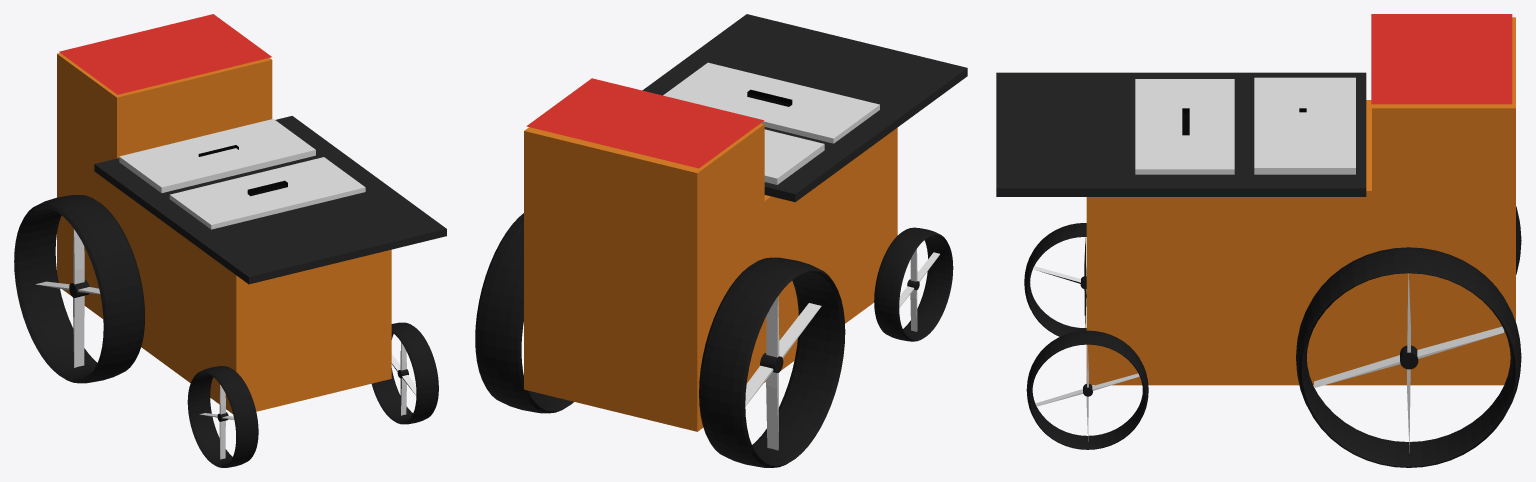
3 views of the same model, side by side, from view 1: azimuth 30°, elevation 25°; view 2: azimuth 150°, elevation 25°; view 3: azimuth 270°, elevation 25° (orthographic). The views are drawn at different scales.
Visible parts, largest first — view 1: Куб.005, Куб.001, Torus.008, Плоскость, Torus.007, Torus.006; view 2: Куб.005, Куб.001, Torus.008, Плоскость, Torus.001, Torus.007; view 3: Куб.005, Куб.001, Torus.001, Плоскость, Torus.006, Torus.007.
Part boxes in pixels (bbox=[...]): Куб.005: bbox=[57, 53, 391, 413]; Куб.001: bbox=[94, 116, 446, 284]; Torus.008: bbox=[14, 195, 145, 383]; Плоскость: bbox=[59, 14, 271, 94]; Torus.007: bbox=[187, 366, 258, 467]; Torus.006: bbox=[371, 322, 438, 424]; Куб.005: bbox=[524, 123, 897, 431]; Куб.001: bbox=[642, 14, 967, 202]; Torus.008: bbox=[699, 257, 845, 467]; Плоскость: bbox=[526, 78, 764, 168]; Torus.001: bbox=[475, 213, 573, 413]; Torus.007: bbox=[874, 227, 953, 341]; Куб.005: bbox=[1086, 17, 1515, 385]; Куб.001: bbox=[996, 72, 1366, 196]; Torus.001: bbox=[1296, 247, 1521, 467]; Плоскость: bbox=[1371, 14, 1512, 104]; Torus.006: bbox=[1026, 330, 1148, 449]; Torus.007: bbox=[1024, 223, 1086, 336].
Bounding box in the file's own units: 3.12 × 3.51 × 4.89.
